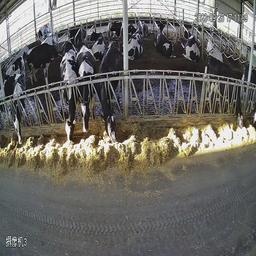cow: (206, 52, 245, 130), (96, 40, 122, 144), (60, 54, 78, 143), (77, 42, 94, 135), (27, 42, 58, 86), (11, 72, 25, 139), (155, 21, 176, 58), (182, 27, 200, 63), (127, 21, 142, 61), (6, 48, 26, 77), (207, 30, 224, 62), (89, 29, 106, 59), (36, 15, 53, 40), (109, 15, 123, 36), (69, 22, 86, 39), (136, 17, 151, 36)
